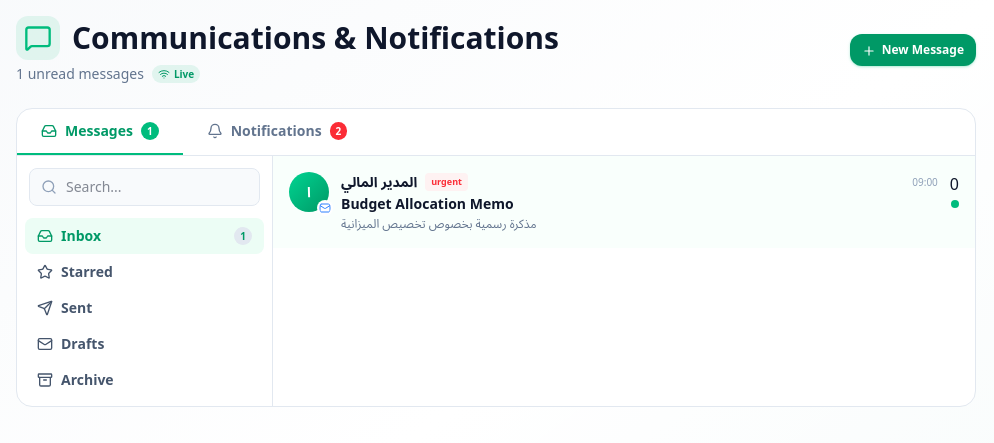
Test: CommunicationsView — E2E live wiring › renders permission-scoped live rows from the API with a Live badge
Expected: the text "Budget Allocation Memo" is shown, [341, 194, 514, 213]
Expected: the text "Live" is shown, [152, 65, 200, 83]
Click the button "Notifications 2" at point(277, 132), box [183, 109, 371, 155]
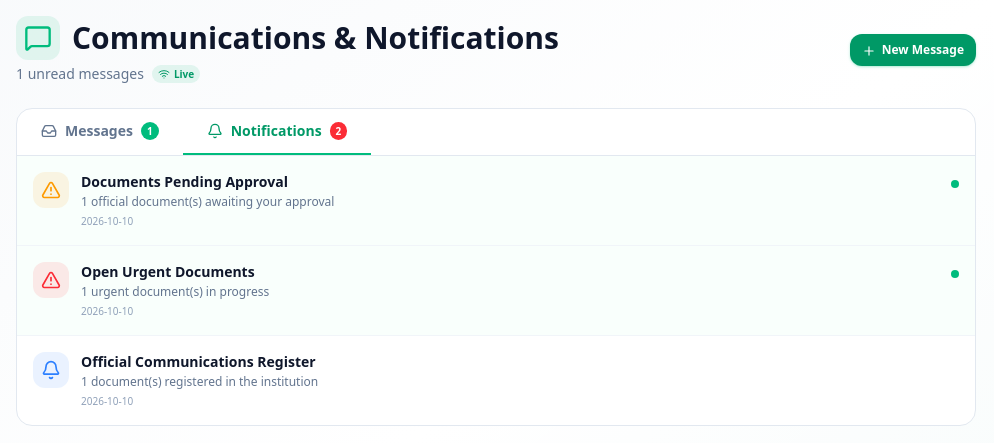
Result: the text "Documents Pending Approval" is shown at [81, 172, 288, 191]
